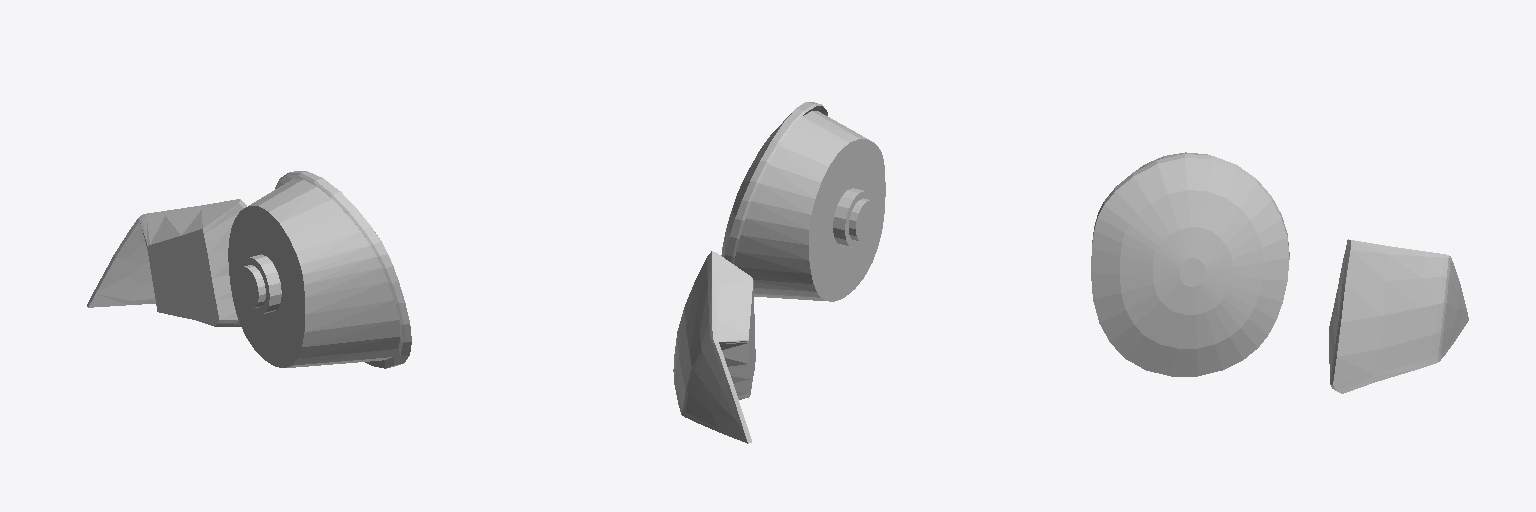
3 renders of one model, left to right at view 1: azimuth 30°, elevation 25°; view 2: azimuth 150°, elevation 25°; view 3: azimuth 270°, elevation 25°, orthographic.
Visible parts, largest first — view 1: J220_061B_L_J220_061B_L_4_D, J220_061B_L_1_N_J220_061B_L, J220_061B_L_J220_061B_L_2_N, J220_061B_L_J220_061B_L_5_DTaSI, J220_061B_L_J220_061B_L_6_DTaSI; view 2: J220_061B_L_J220_061B_L_4_D, J220_061B_L_J220_061B_L_6_DTaSI, J220_061B_L_1_N_J220_061B_L, J220_061B_L_J220_061B_L_5_DTaSI; view 3: J220_061B_L_J220_061B_L_5_DTaSI, J220_061B_L_J220_061B_L_6_DTaSI, J220_061B_L_1_N_J220_061B_L.
Boxes of the visible parts, box(x1,y1,x2,y2) form: J220_061B_L_J220_061B_L_4_D: box(228, 175, 402, 368); J220_061B_L_1_N_J220_061B_L: box(140, 203, 243, 326); J220_061B_L_J220_061B_L_2_N: box(88, 221, 155, 307); J220_061B_L_J220_061B_L_5_DTaSI: box(279, 171, 411, 368); J220_061B_L_J220_061B_L_6_DTaSI: box(87, 199, 246, 306); J220_061B_L_J220_061B_L_4_D: box(734, 106, 885, 301); J220_061B_L_J220_061B_L_6_DTaSI: box(673, 251, 751, 443); J220_061B_L_1_N_J220_061B_L: box(717, 253, 755, 399); J220_061B_L_J220_061B_L_5_DTaSI: box(721, 102, 823, 263); J220_061B_L_J220_061B_L_5_DTaSI: box(1091, 154, 1289, 376); J220_061B_L_J220_061B_L_6_DTaSI: box(1330, 240, 1468, 393); J220_061B_L_1_N_J220_061B_L: box(1329, 239, 1348, 378).
Size of the model in its own units: 23.41 by 31.7 by 50.37.